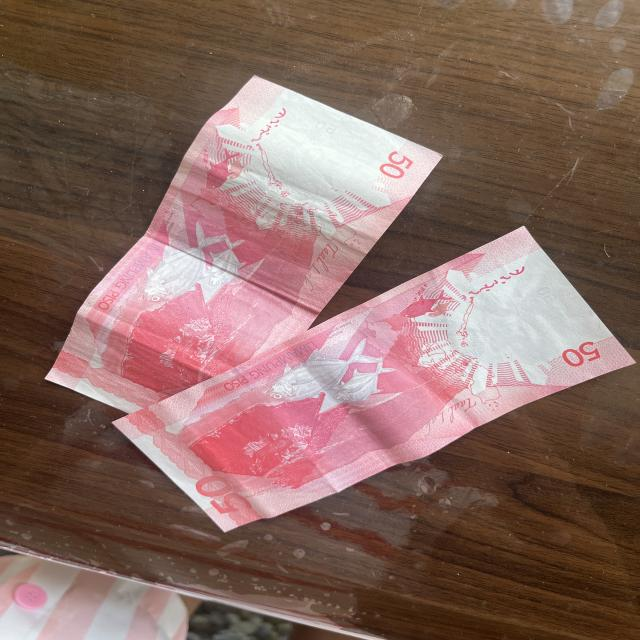50_maliputo: (266, 330, 392, 420), (136, 218, 254, 310)
50_maliputo_watermark: (197, 141, 250, 193), (395, 287, 458, 326)
value_watermark: (525, 278, 565, 312)
watermark: (469, 274, 585, 361)
